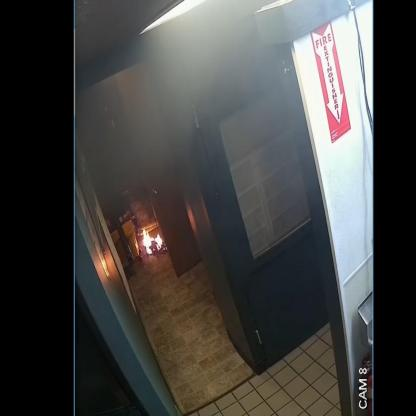fire: (143, 229, 162, 254)
